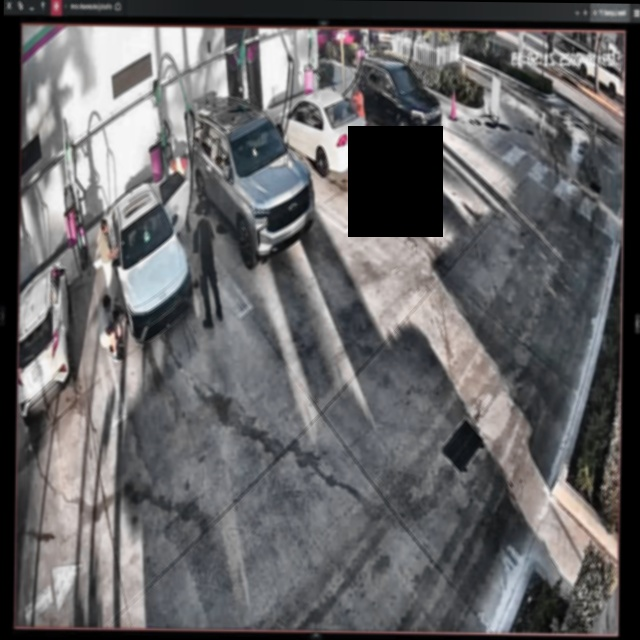Car: (188, 94, 313, 264), (108, 170, 191, 345), (275, 80, 371, 177), (357, 56, 445, 146)
